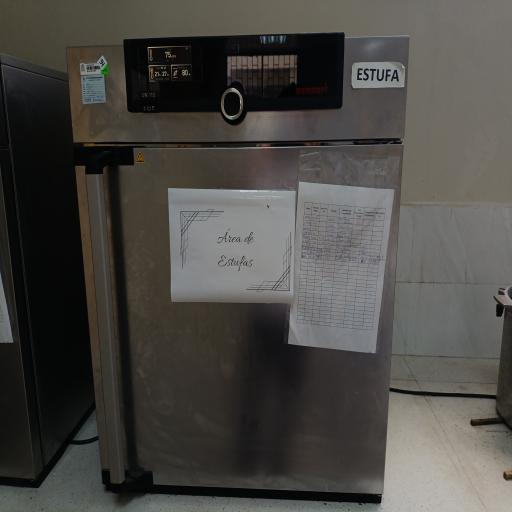Estufa_Memmert: (58, 22, 416, 512)
